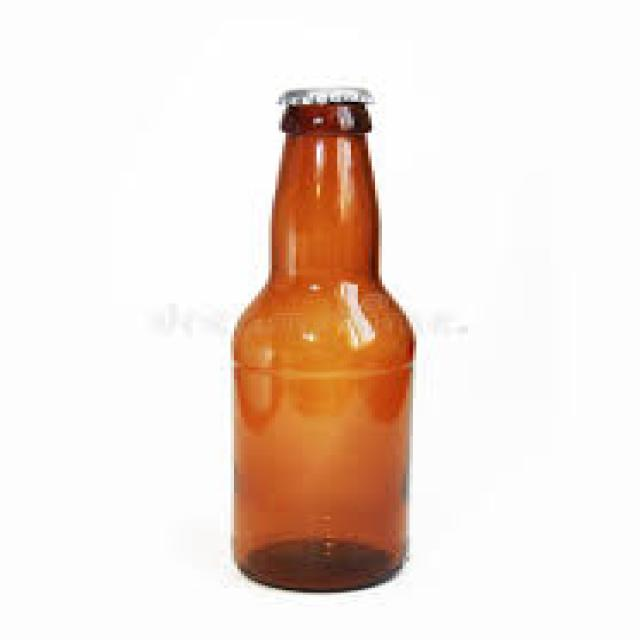glass: (227, 100, 410, 593)
metal: (275, 83, 368, 104)
